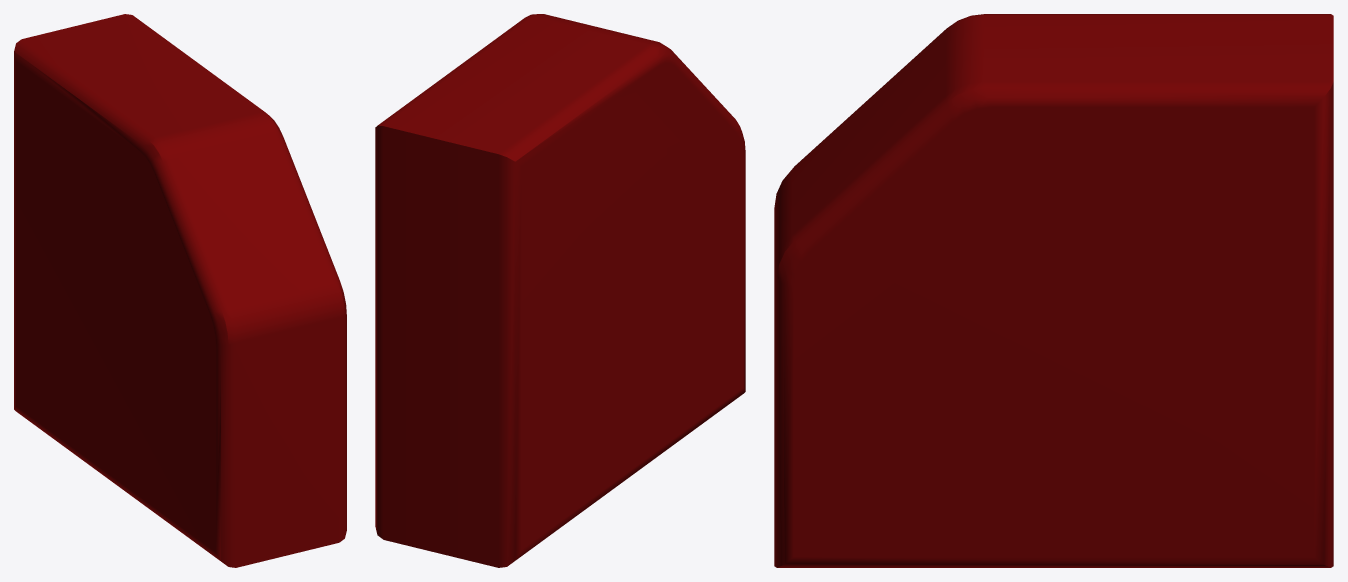
The model's file is GasFBX.fbx.
The picture shows the model from 3 angles, left to right: view 1: azimuth 30°, elevation 25°; view 2: azimuth 150°, elevation 25°; view 3: azimuth 270°, elevation 25°; orthographic projection. The views are drawn at different scales.
Visible parts, largest first — view 1: polySurface9; view 2: polySurface9; view 3: polySurface9.
Boxes of the visible parts, x1=… form: polySurface9: x1=14, y1=14, x2=346, y2=567; polySurface9: x1=375, y1=14, x2=745, y2=567; polySurface9: x1=774, y1=14, x2=1333, y2=567.
Bounding box in the file's own units: 0.33 × 0.9064 × 0.9477.
